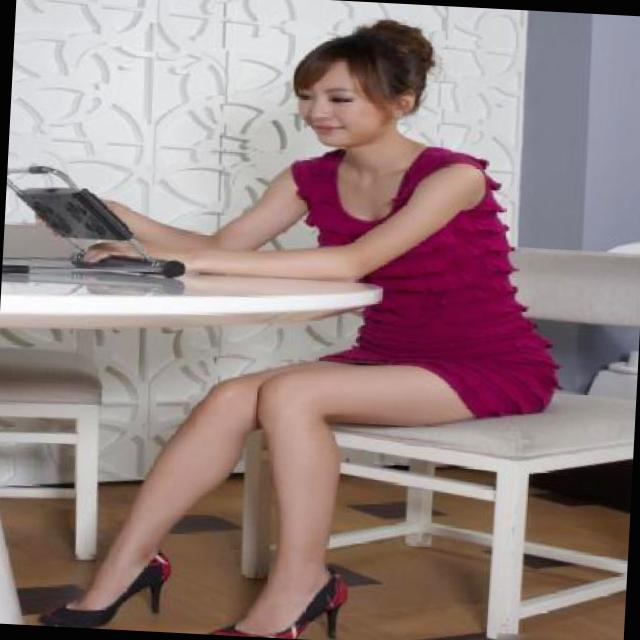Person: (147, 13, 588, 640)
